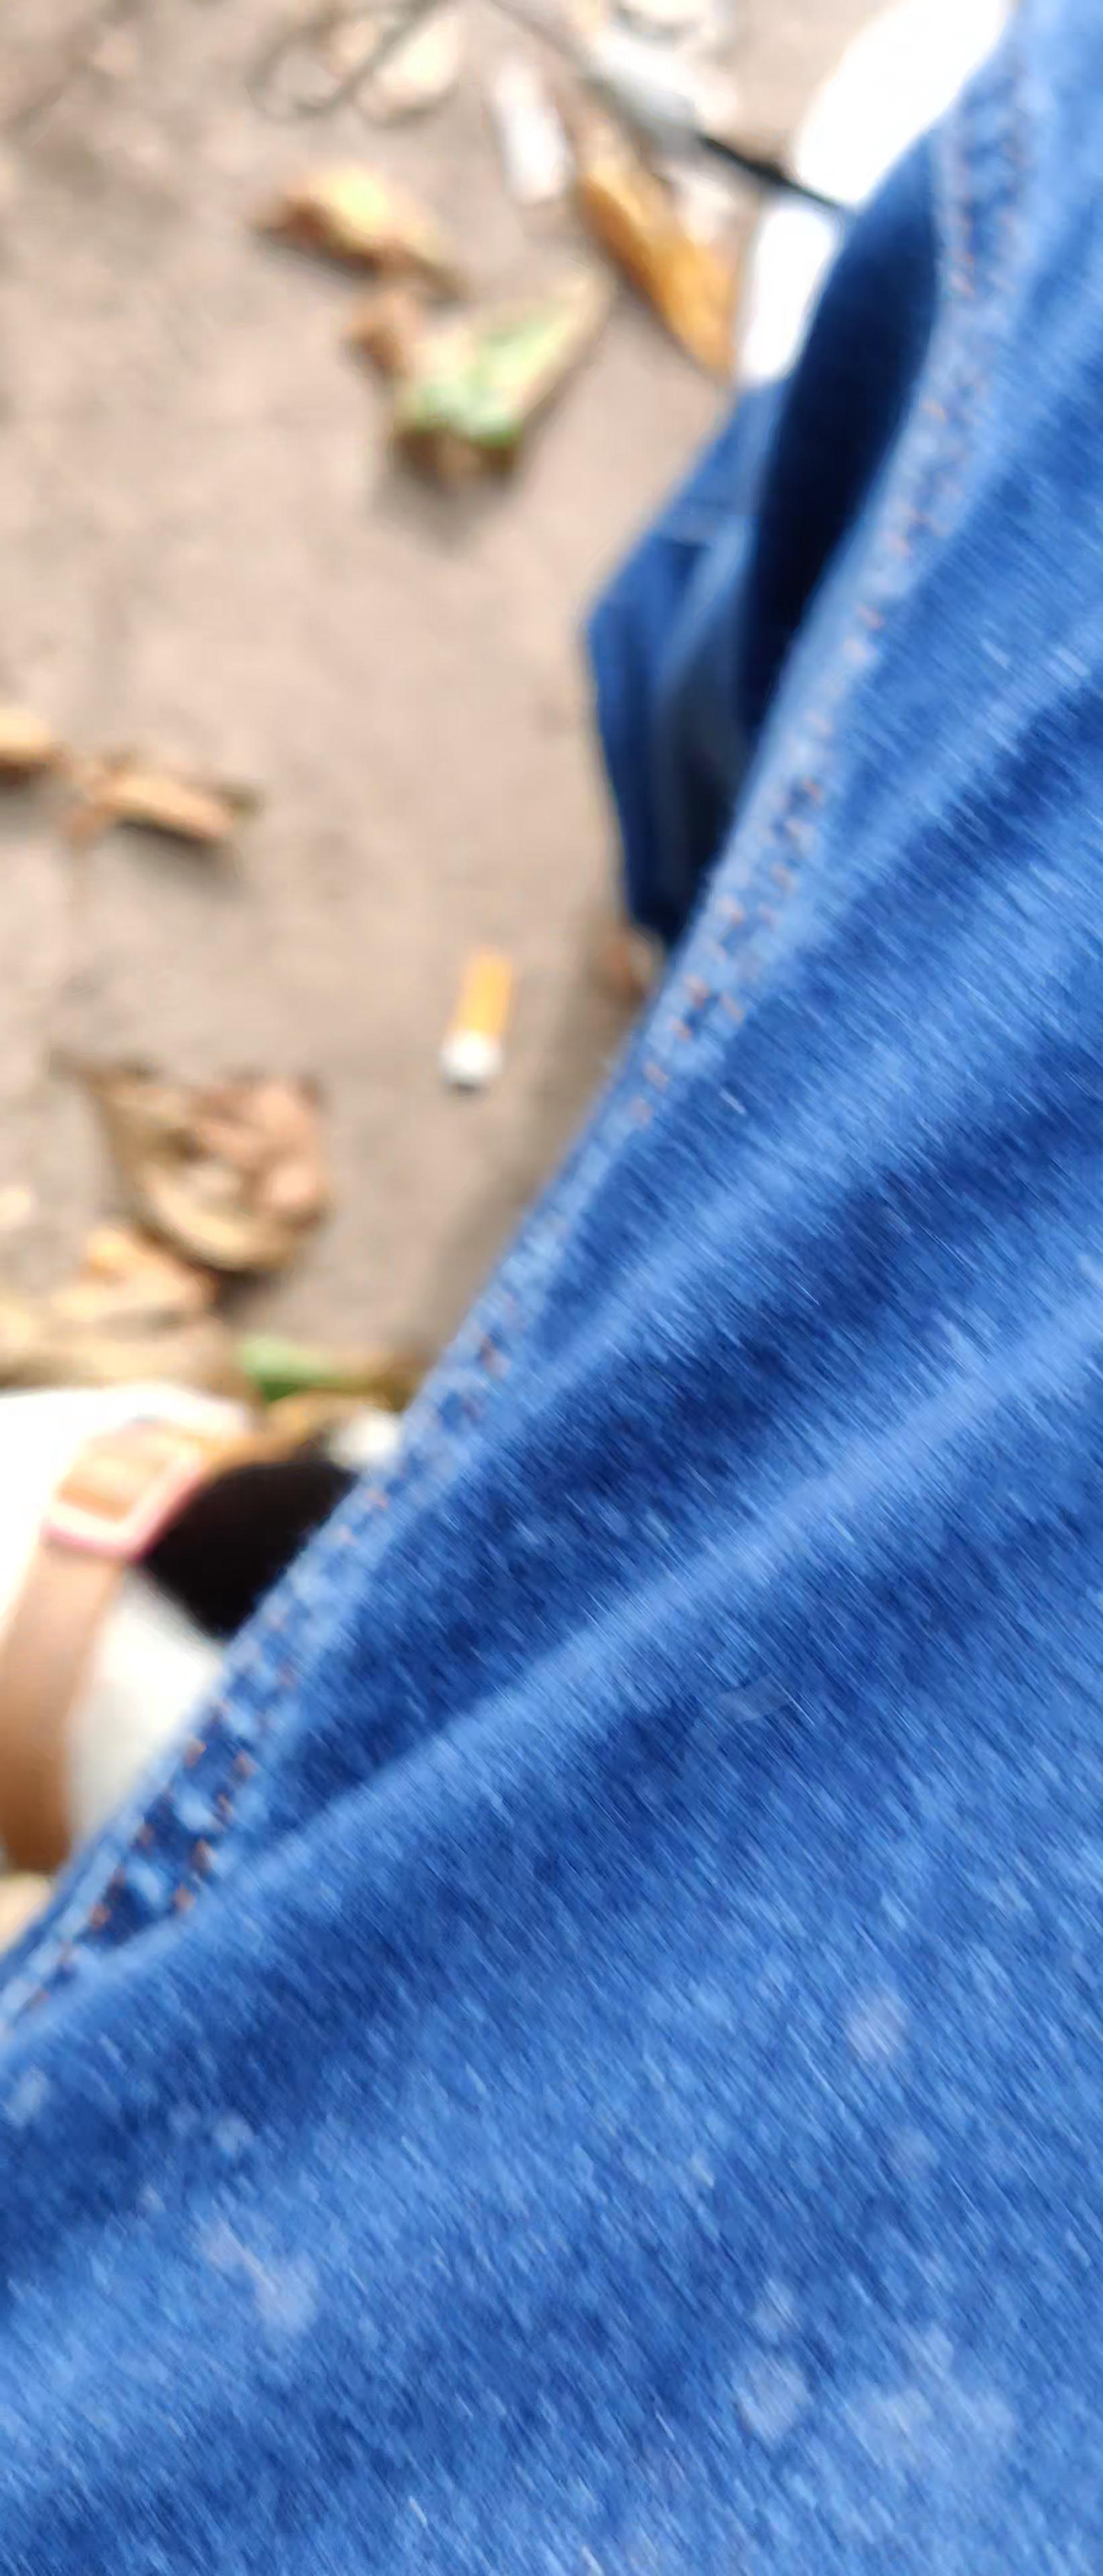Dog: (0, 1373, 406, 1879)
